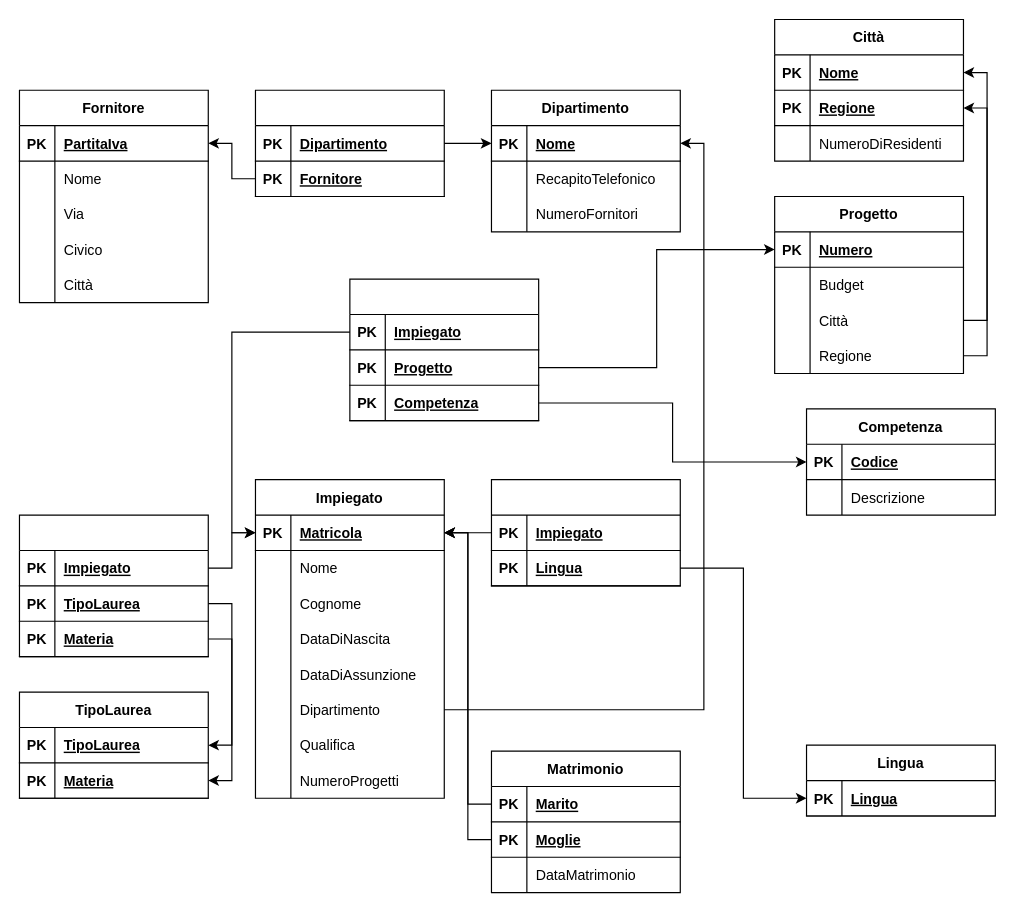
This 1015x912 diagram has some shape labels left out. The box of each missing label's shape, as (x1, y1, x2, y2) in pixels:
Laureato: (18, 514, 208, 657)
Partecipa: (349, 278, 539, 421)
Rifornisce: (254, 89, 444, 196)
Segretario: (490, 478, 680, 586)
